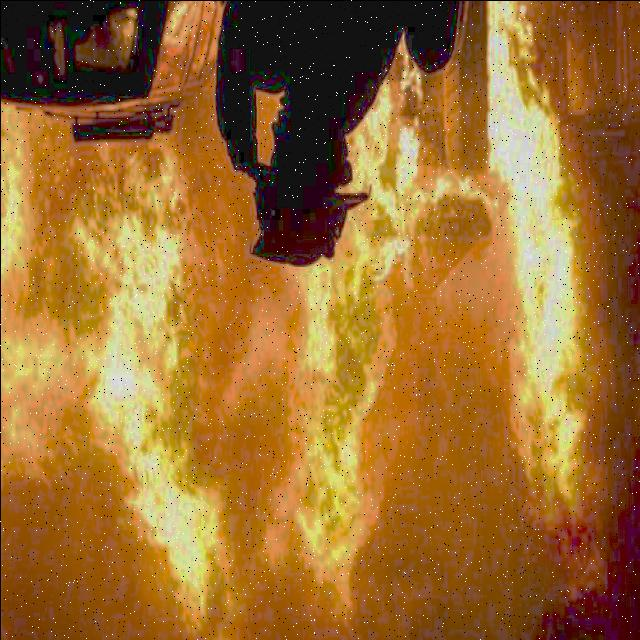api: (7, 137, 171, 483), (138, 485, 356, 637), (526, 126, 587, 506), (301, 271, 387, 478), (362, 83, 427, 260), (486, 1, 522, 177)
asap: (401, 290, 506, 496), (377, 500, 514, 638)
